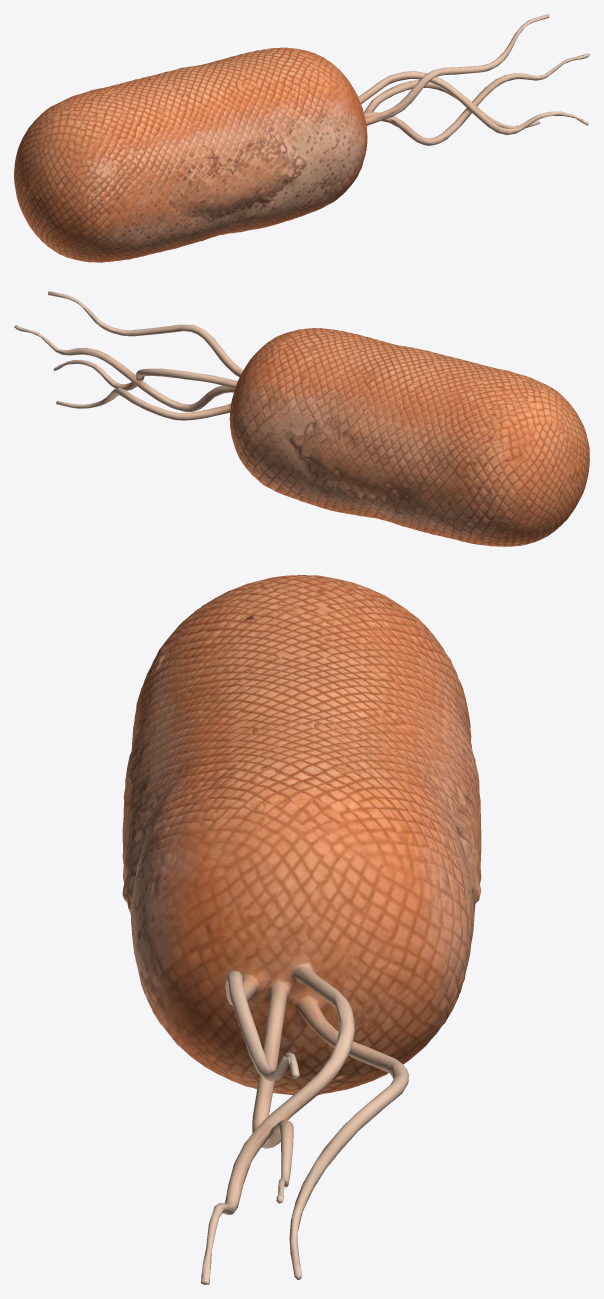
The model's file is archaea.glb.
3 views of the same model, one above another, from view 1: azimuth 30°, elevation 25°; view 2: azimuth 150°, elevation 25°; view 3: azimuth 270°, elevation 25° (orthographic). The views are drawn at different scales.
Parts seen in each view (by area): view 1: tripo_node_25d03e3f-2a32-4012-a671-45847f94d53e; view 2: tripo_node_25d03e3f-2a32-4012-a671-45847f94d53e; view 3: tripo_node_25d03e3f-2a32-4012-a671-45847f94d53e.
Part boxes in pixels (x1=…): tripo_node_25d03e3f-2a32-4012-a671-45847f94d53e: x1=14, y1=14, x2=589, y2=262; tripo_node_25d03e3f-2a32-4012-a671-45847f94d53e: x1=14, y1=291, x2=589, y2=546; tripo_node_25d03e3f-2a32-4012-a671-45847f94d53e: x1=122, y1=575, x2=481, y2=1284.
Bounding box in the file's own units: 0.9998 × 0.2705 × 0.279.
Materials: 1 (1 with a texture image).
